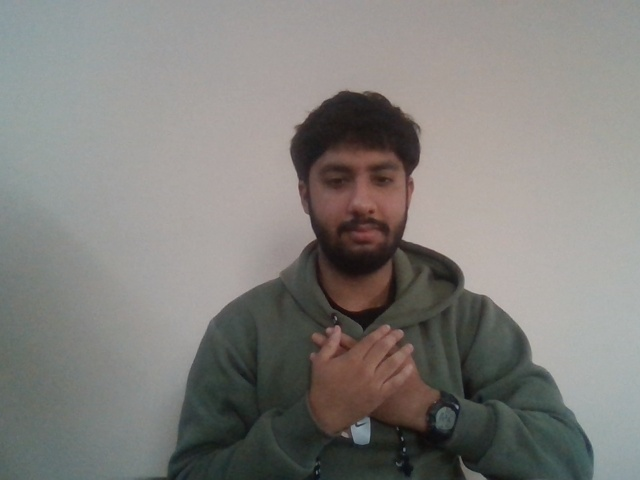Please: (291, 324, 441, 417)
